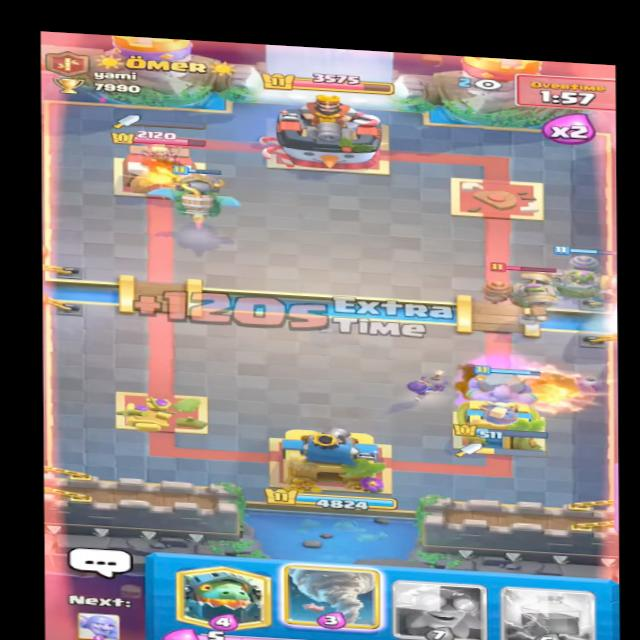goblin-machine: (461, 261, 575, 321)
